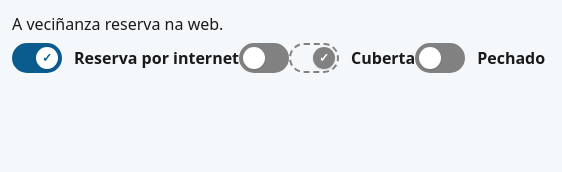
Test: furar-switch › desactivado polo formulario: botón disabled e non cambia
Expected: the switch next to "Cuberta" is disabled, [289, 36, 339, 80]
Click the label "Cuberta" at point(383, 58), box [351, 46, 415, 70]
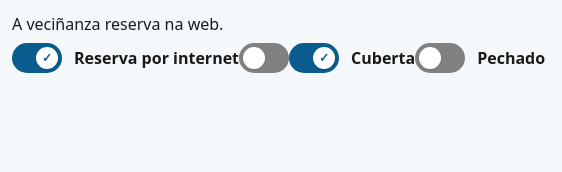
Now the switch next to "Cuberta" is enabled, box [289, 36, 339, 80]
